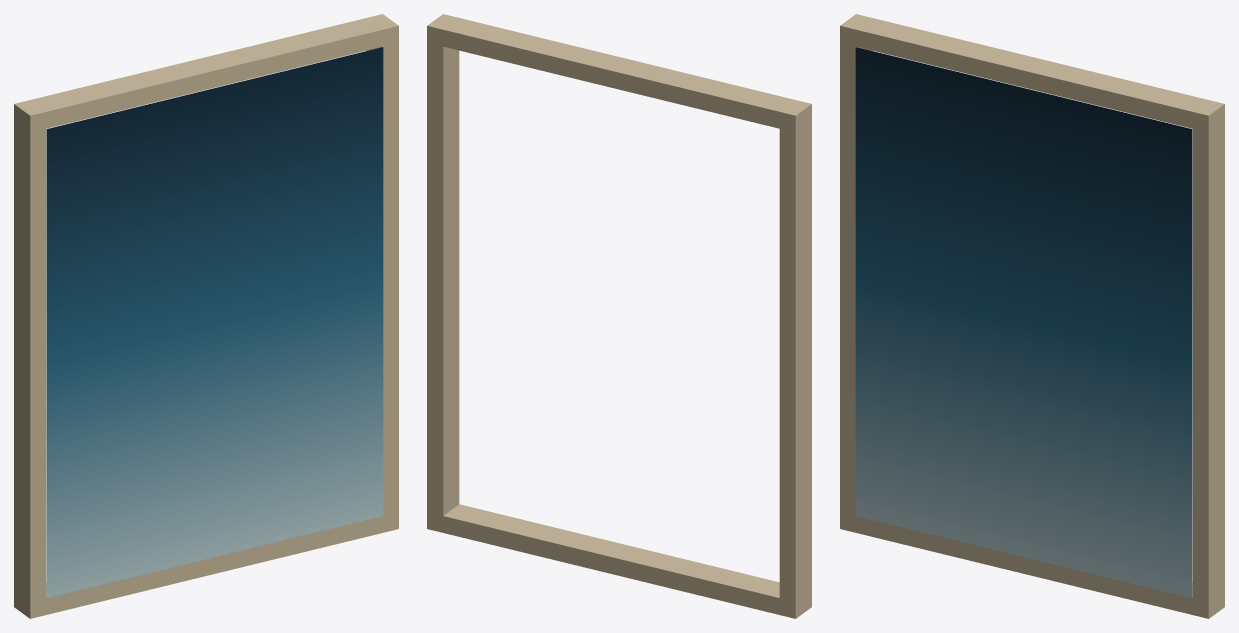
File: tide_canvas_1824.glb
The picture shows the model from 3 angles, left to right: view 1: azimuth 30°, elevation 25°; view 2: azimuth 150°, elevation 25°; view 3: azimuth 330°, elevation 25°; orthographic projection.
Parts seen in each view (by area): view 1: world; view 2: world; view 3: world.
Boxes of the visible parts, box(x1,y1,x2,y2) form: world: box(14, 14, 398, 618); world: box(427, 14, 811, 618); world: box(840, 14, 1224, 618).
Size of the model in its own units: 0.5012 by 0.6536 by 0.039.
Materials: 1 (1 with a texture image).
